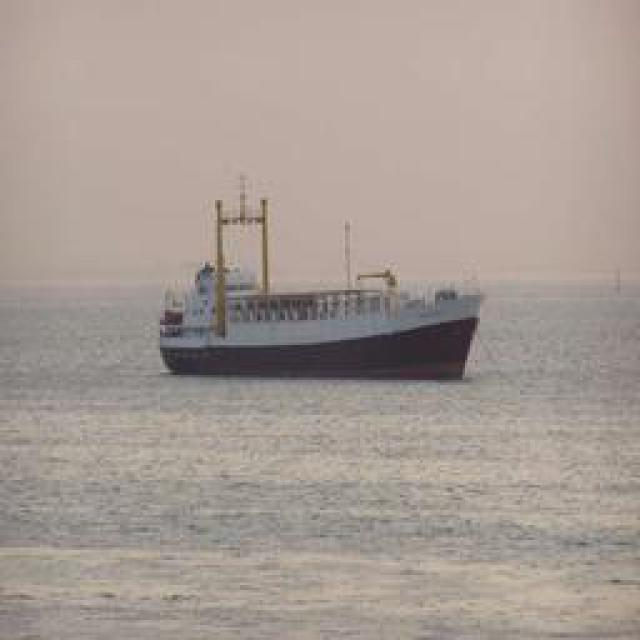Ship: (157, 206, 485, 381)
